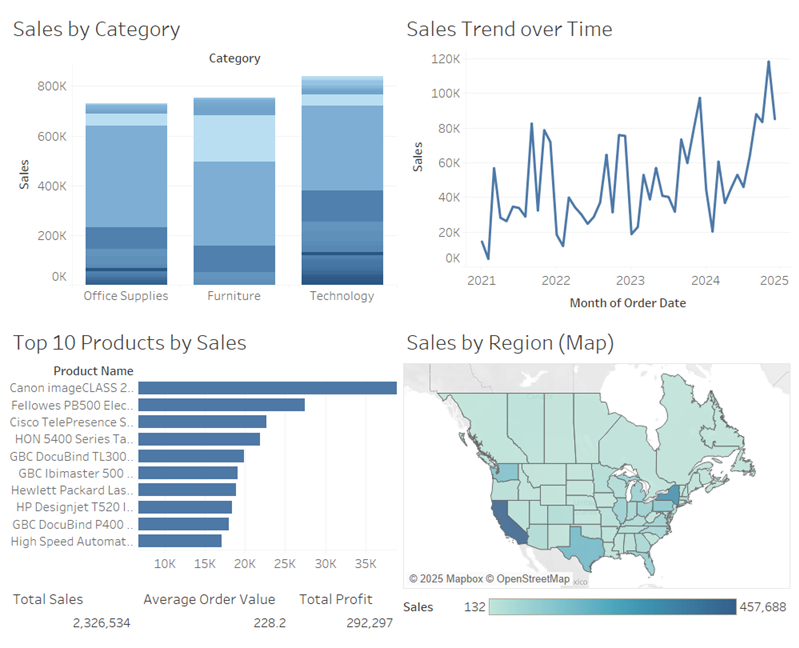

This screenshot's page, from the dashboard's own definition file:
{"tool":"tableau","page":{"name":"Sales and Revenue","canvas":[1000,800],"ordinal":0},"visuals":[{"type":"worksheet","title":"Sales by Category","mark":"Bar","rows":["Sales"],"cols":["Category"],"box":[8,8,492,392]},{"type":"worksheet","title":"Sales Trend over Time","mark":"Line","rows":["Sales"],"cols":["Order Date"],"box":[500,8,492,392]},{"type":"worksheet","title":"Top 10 Products by Sales","mark":"Automatic","rows":["Product Name"],"cols":["Sales"],"box":[8,400,492,326]},{"type":"worksheet","title":"Sales by Region (Map)","mark":"Automatic","box":[500,400,492,340]},{"type":"worksheet","title":"Total Sales","mark":"Automatic","box":[8,726,163,66]},{"type":"worksheet","title":"Average Order Value","mark":"Automatic","box":[171,726,195,66]},{"type":"worksheet","title":"Total Profit","mark":"Automatic","box":[366,726,134,66]},{"type":"legend","title":"Sales by Region (Map)","param":"[Sample - Superstore].[sum:Sales:qk]","box":[500,740,492,52]}]}

Visuals, with their boxes in screenshot pixels (x1, y1, x2, y2), scaled from the page's 1000x800 canvas onto the 799x648 screenshot:
"Sales by Category" worksheet (Bar marks): <region>6, 6, 400, 324</region>
"Sales Trend over Time" worksheet (Line marks): <region>400, 6, 793, 324</region>
"Top 10 Products by Sales" worksheet: <region>6, 324, 400, 588</region>
"Sales by Region (Map)" worksheet: <region>400, 324, 793, 599</region>
"Total Sales" worksheet: <region>6, 588, 137, 642</region>
"Average Order Value" worksheet: <region>137, 588, 292, 642</region>
"Total Profit" worksheet: <region>292, 588, 400, 642</region>
"Sales by Region (Map)" legend: <region>400, 599, 793, 642</region>
